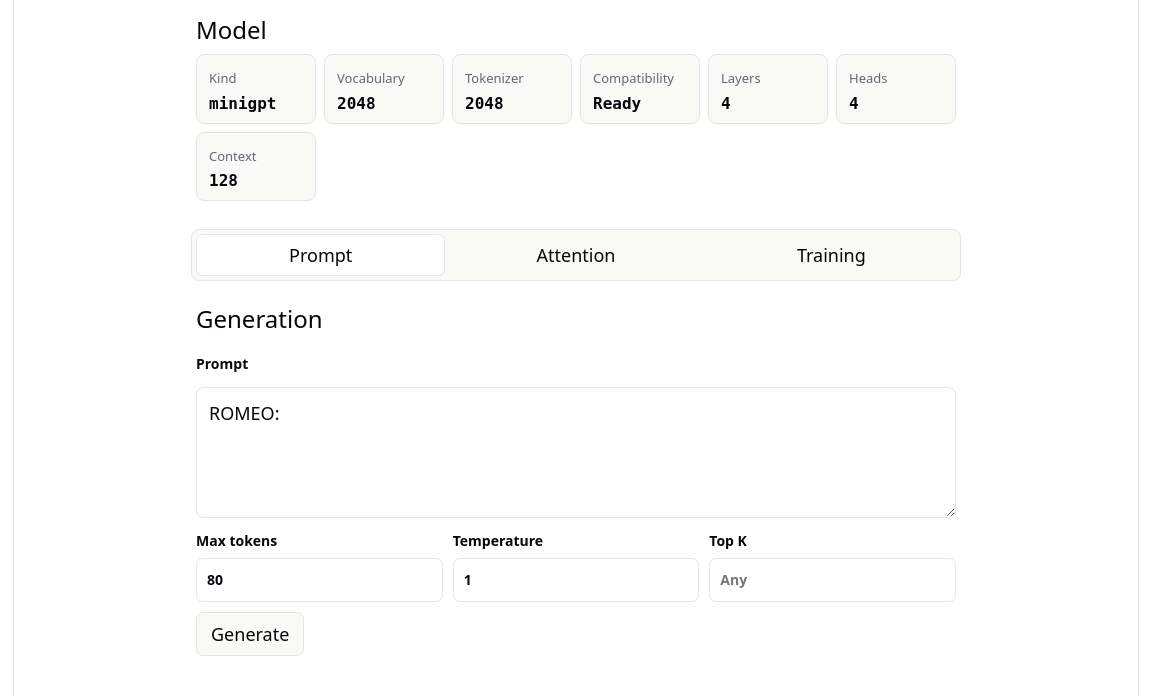
Test case: App generation flow › surfaces API validation errors from generation requests
The width and height of the screenshot is (1152, 696).
(page scrolled)
Expected: the text "Ready" is shown, x1=593 y1=94 x2=641 y2=112
Click the button "Generate": (250, 634) x1=196 y1=612 x2=304 y2=656
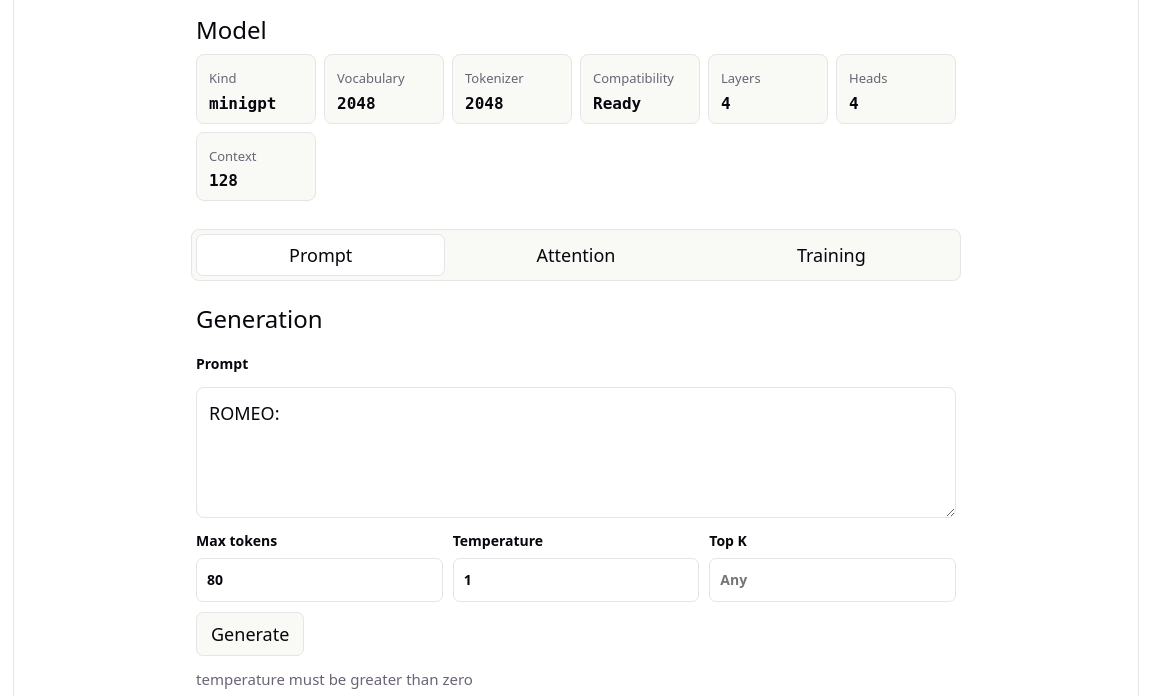
Expected: the message reads "temperature must be greater than zero", x1=196 y1=669 x2=473 y2=689
